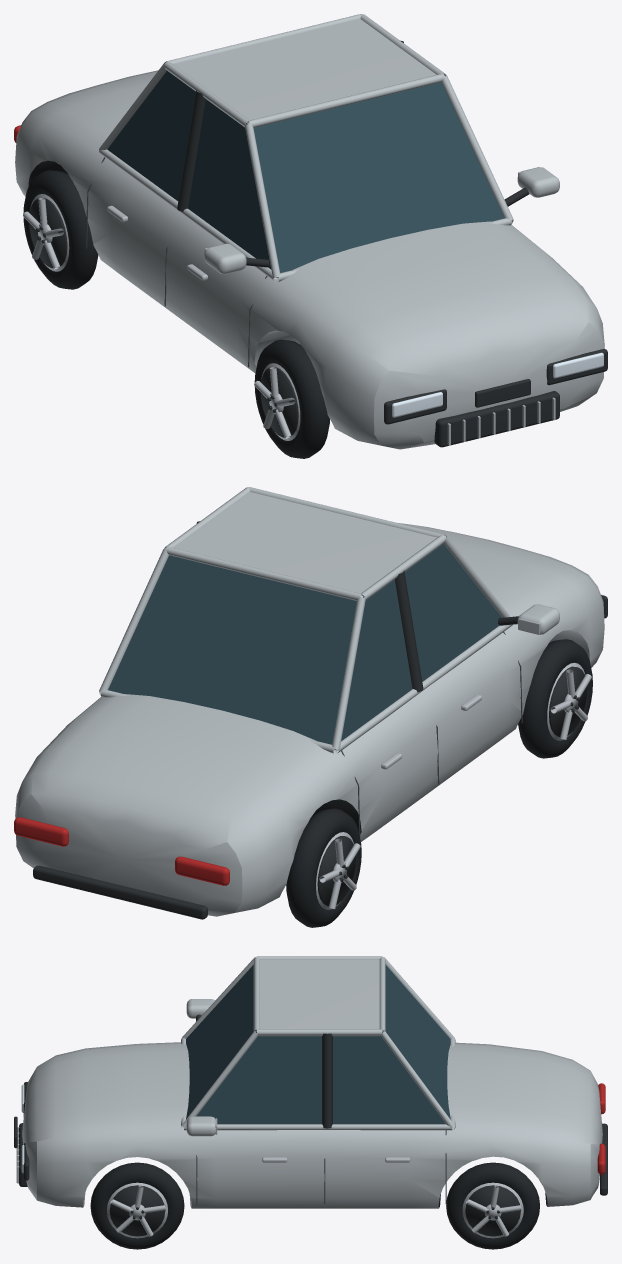
The model's file is vehicle-suv-lod1.glb.
The picture shows the model from 3 angles, top to bottom: view 1: azimuth 30°, elevation 25°; view 2: azimuth 150°, elevation 25°; view 3: azimuth 270°, elevation 25°; orthographic projection. The views are drawn at different scales.
Visible parts, largest first — view 1: vehicle-suv_MATERIAL_BATCH; view 2: vehicle-suv_MATERIAL_BATCH; view 3: vehicle-suv_MATERIAL_BATCH.
Boxes of the visible parts, <box> form: vehicle-suv_MATERIAL_BATCH: <box>14,14,607,458</box>; vehicle-suv_MATERIAL_BATCH: <box>14,487,607,927</box>; vehicle-suv_MATERIAL_BATCH: <box>14,956,607,1249</box>.
Bounding box in the file's own units: 2.42 × 1.82 × 4.74.
